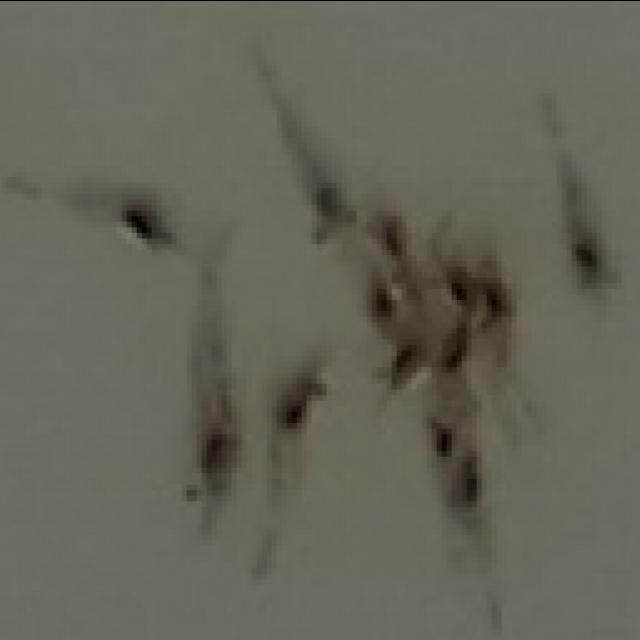shrimp-seed: (185, 426, 251, 511), (119, 189, 183, 262), (281, 352, 337, 434), (304, 178, 362, 250), (570, 232, 628, 300), (382, 337, 428, 399), (444, 462, 494, 518), (370, 200, 418, 257), (436, 318, 479, 378), (444, 256, 485, 318), (476, 273, 520, 329), (364, 279, 403, 330), (422, 418, 458, 462)
